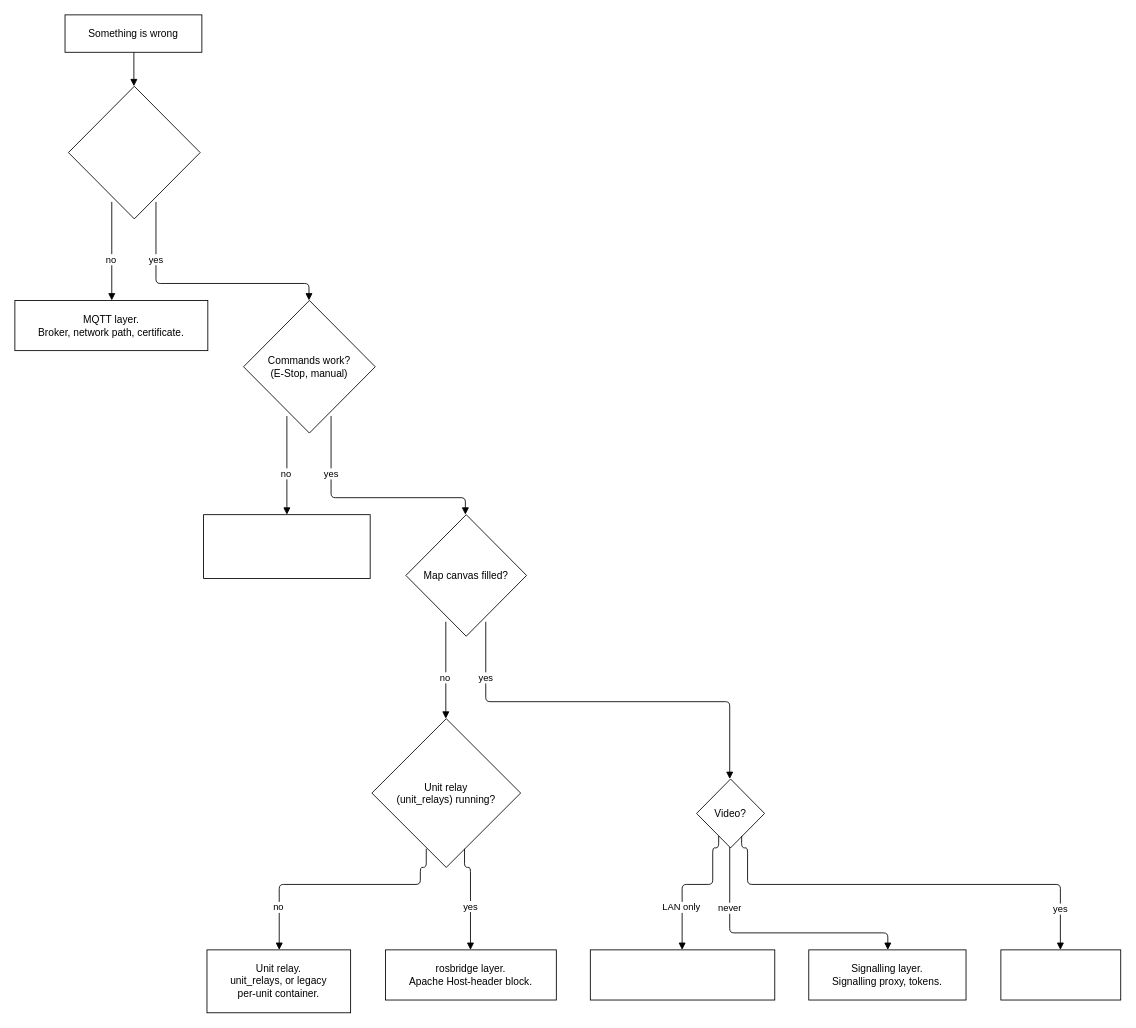
Some shapes in this 1136 by 1028 pixel diagram are drawn without their labels. Each missing label, with the box of its shape:
App-level issue. Tables below.: (1000, 949, 1121, 1000)
Command layer. system_command on unit, backend MQTT client.: (203, 514, 370, 578)
TURN relay. TURN_EXTERNAL_IP, router.: (589, 949, 775, 1000)
Unit online in admin console?: (68, 85, 200, 219)
